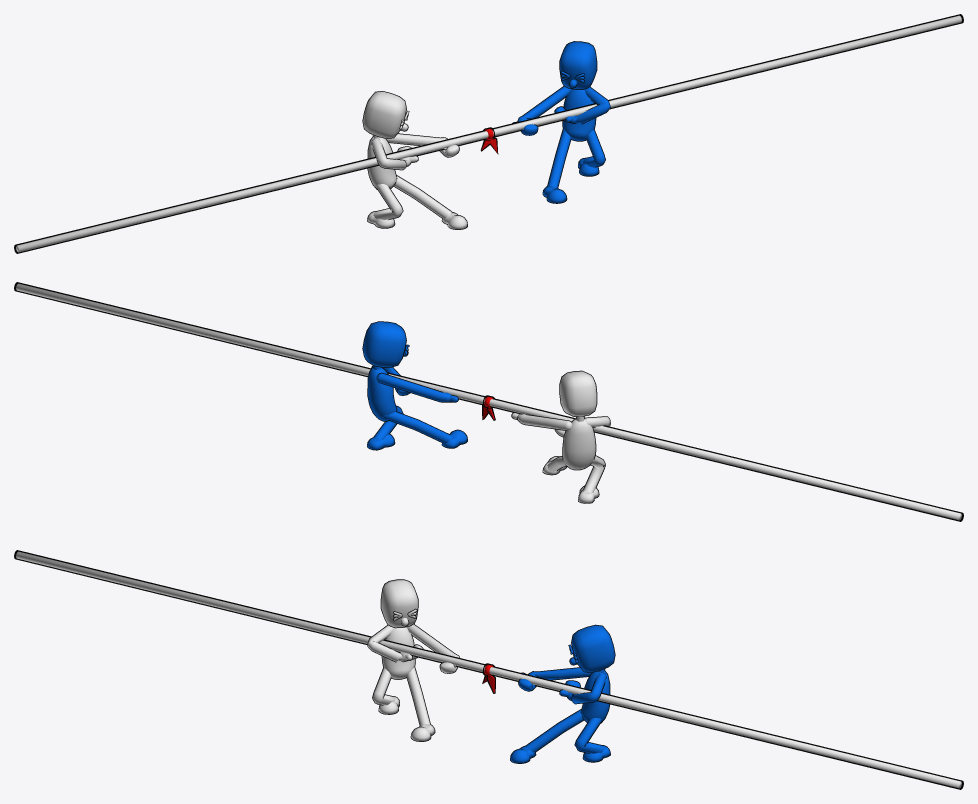
The model's file is Player.glb.
3 renders of one model, top to bottom at view 1: azimuth 30°, elevation 25°; view 2: azimuth 150°, elevation 25°; view 3: azimuth 330°, elevation 25°, orthographic.
Visible parts, largest first — view 1: Player; view 2: Player; view 3: Player.
Boxes of the visible parts, <box> form: Player: <box>14,14,963,253</box>; Player: <box>14,282,963,521</box>; Player: <box>14,550,963,789</box>.
Bounding box in the file's own units: 65.72 × 8.46 × 5.09.
